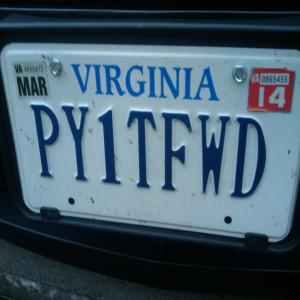Vehicle-registration-plate: (1, 50, 300, 244)
